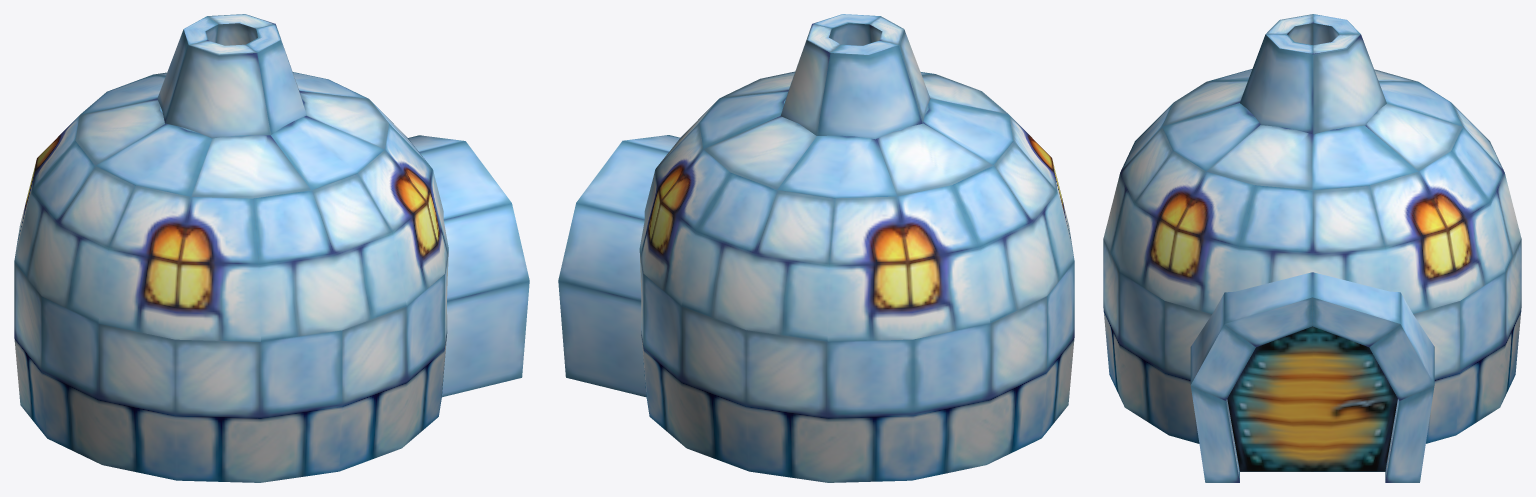
Rendered from Object_House.FBX.
The picture shows the model from 3 angles, left to right: view 1: azimuth 30°, elevation 25°; view 2: azimuth 150°, elevation 25°; view 3: azimuth 270°, elevation 25°; orthographic projection. The views are drawn at different scales.
Parts seen in each view (by area): view 1: Cylinder02; view 2: Cylinder02; view 3: Cylinder02.
Part boxes in pixels (box(x1,y1,x2,y2)): Cylinder02: box(14, 14, 529, 482); Cylinder02: box(558, 14, 1074, 482); Cylinder02: box(1103, 14, 1521, 482).
Size of the model in its own units: 134 by 108 by 120.
